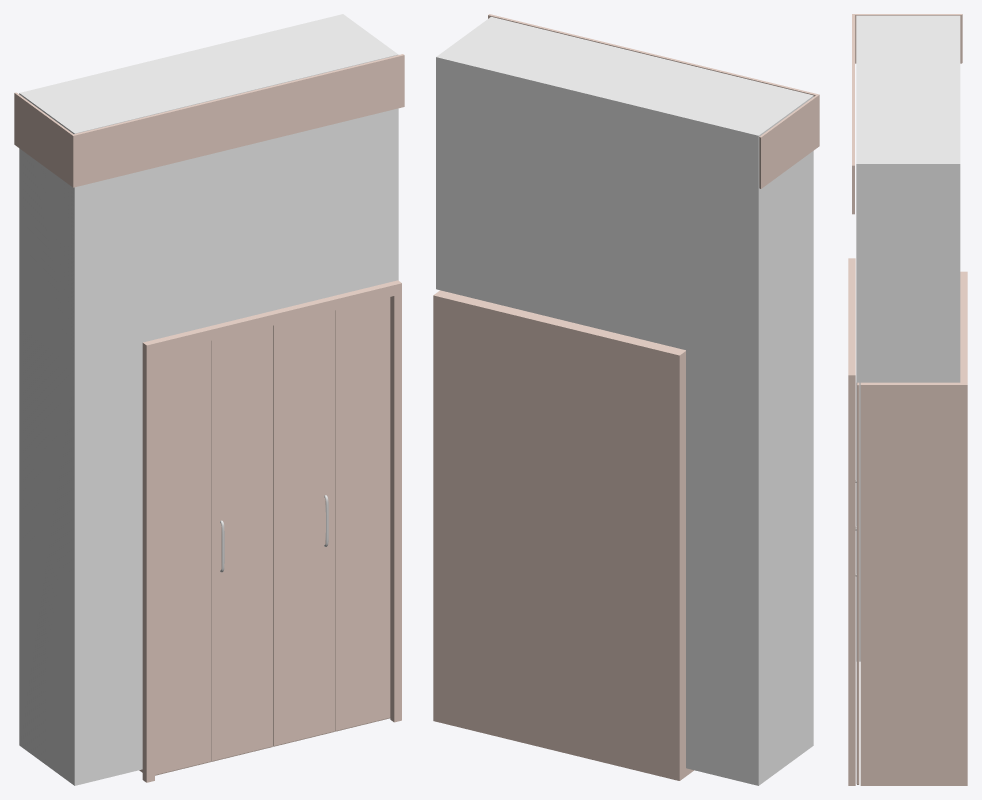
Rendered from closet.fbx.
The picture shows the model from 3 angles, left to right: view 1: azimuth 30°, elevation 25°; view 2: azimuth 150°, elevation 25°; view 3: azimuth 270°, elevation 25°; orthographic projection. The views are drawn at different scales.
Visible parts, largest first — view 1: closet_box, closet, closet_band; view 2: closet_box, closet, closet_band; view 3: closet, closet_box, closet_band.
Boxes of the visible parts, bbox=[...] form: closet_box: bbox=[19, 14, 398, 785]; closet: bbox=[139, 280, 401, 782]; closet_band: bbox=[14, 54, 404, 187]; closet_box: bbox=[436, 16, 813, 785]; closet: bbox=[433, 290, 693, 780]; closet_band: bbox=[488, 14, 819, 188]; closet: bbox=[848, 258, 967, 785]; closet_box: bbox=[856, 15, 960, 661]; closet_band: bbox=[852, 14, 962, 214].
Bounding box in the file's own units: 446 × 1340 × 2562.
